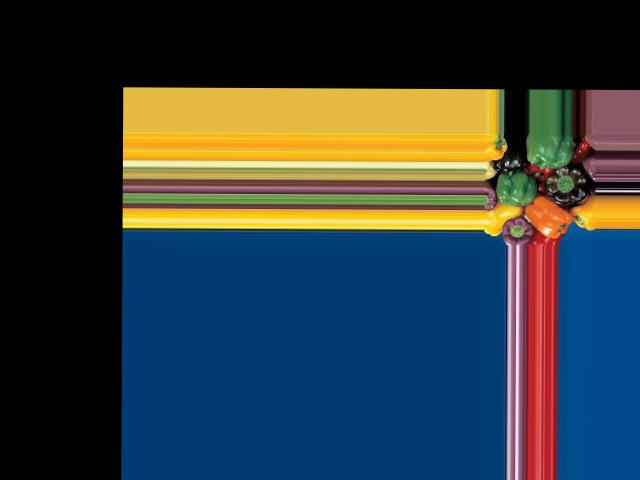bell_pepper: (527, 133, 575, 164)
